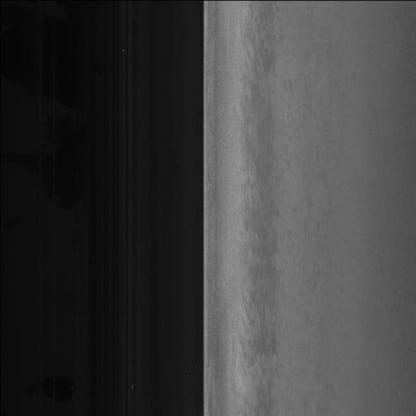silk_spot: (229, 129, 276, 257)
